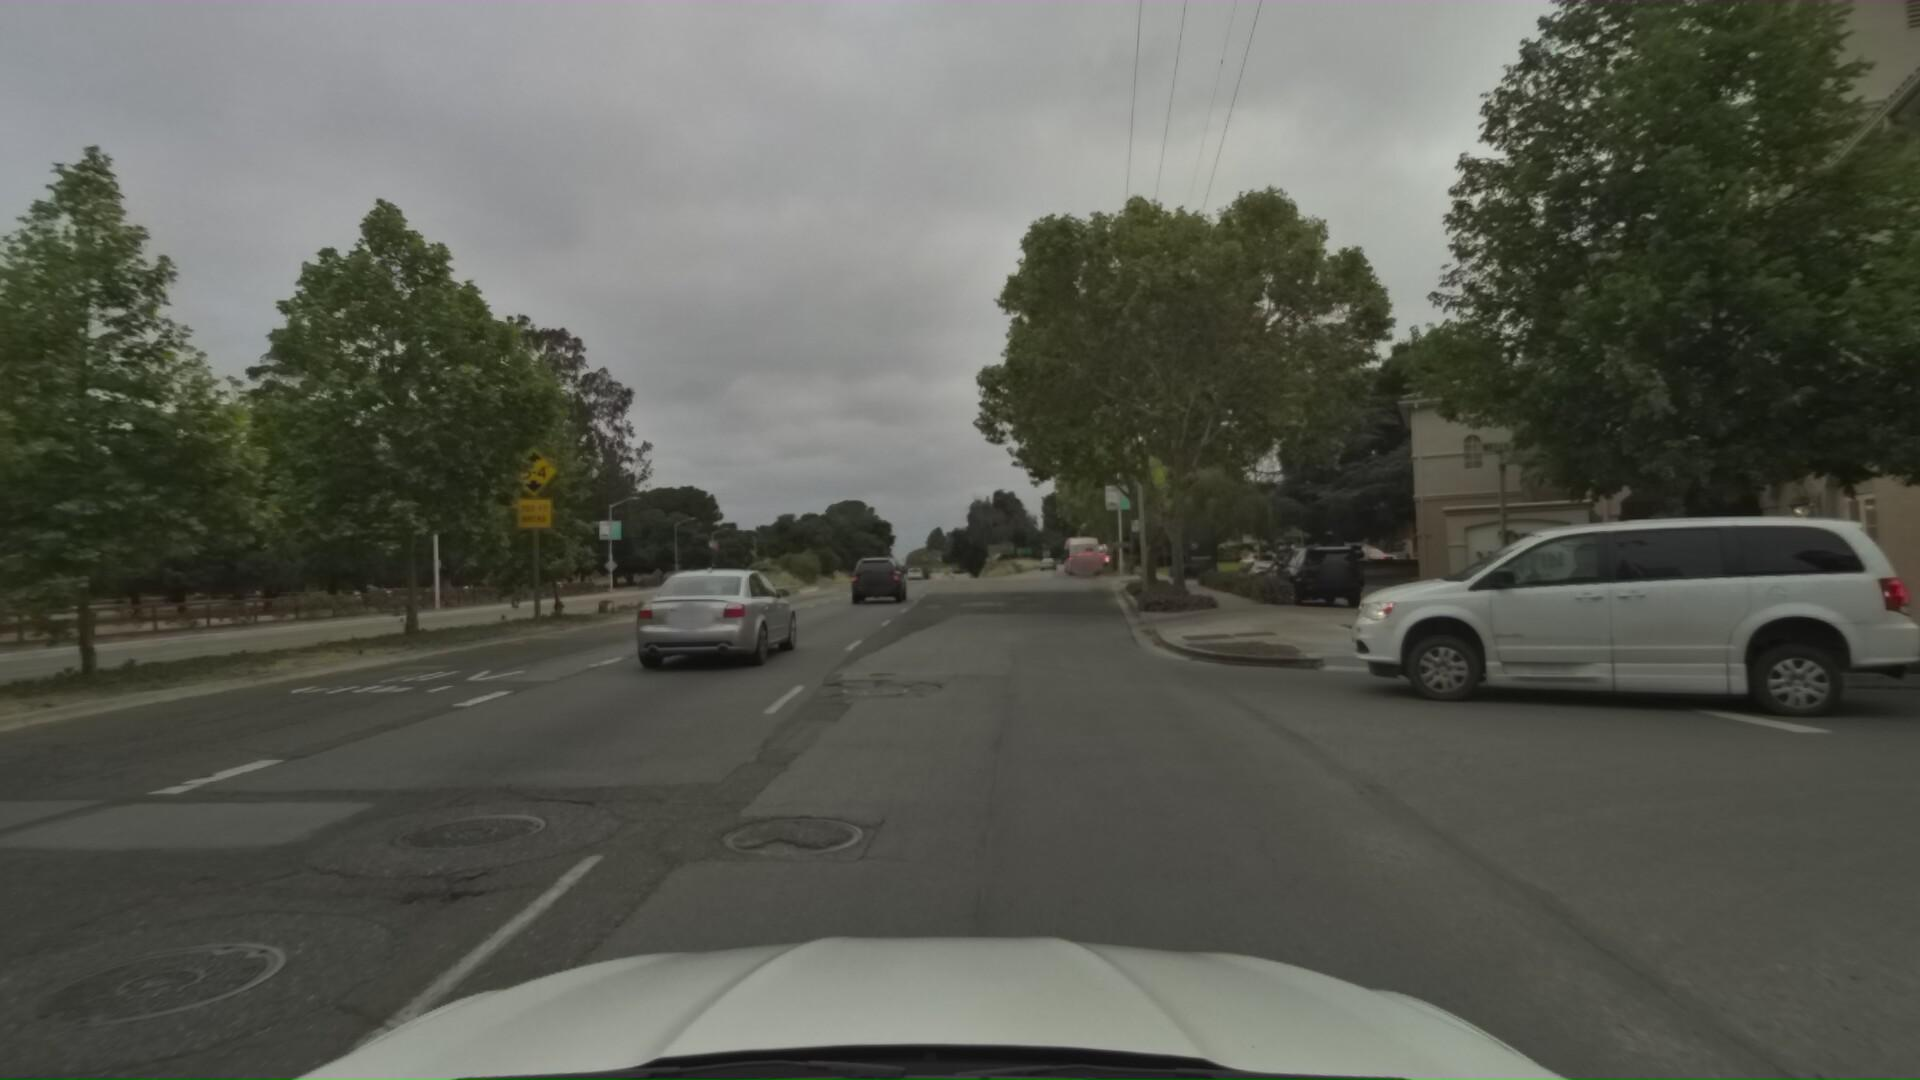car: (1349, 481, 1920, 713), (611, 525, 816, 667), (1269, 531, 1377, 597), (844, 535, 910, 596), (1258, 547, 1329, 591), (1237, 546, 1299, 579), (1335, 535, 1404, 559)
